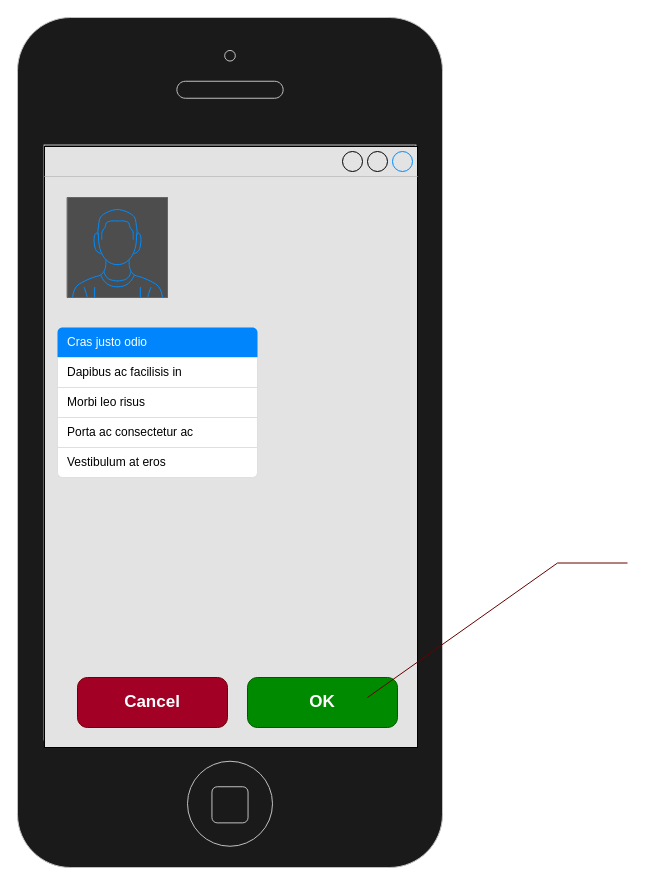
Image size: 645x885. Some labels were removed from this diagram. Each missing label, with the box of its shape:
Button to do stuff: (366, 536, 628, 698)
Window Title: (44, 146, 418, 748)
